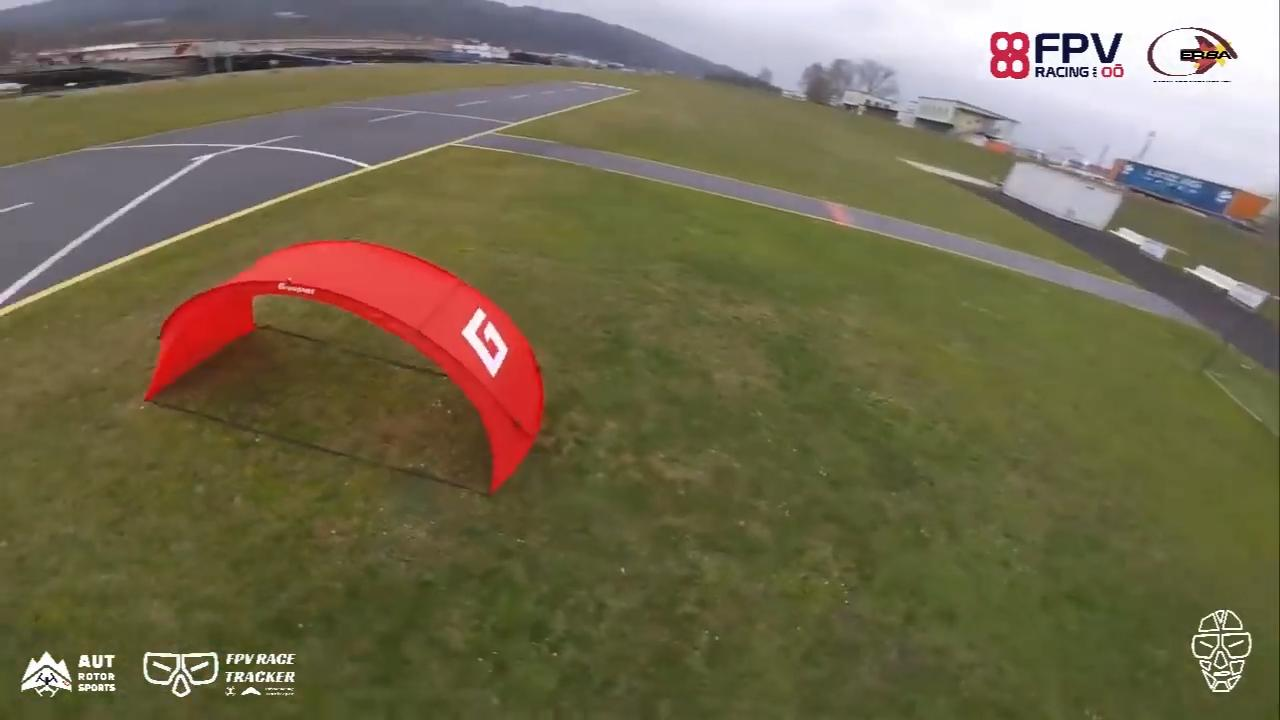gate: (136, 235, 545, 503)
